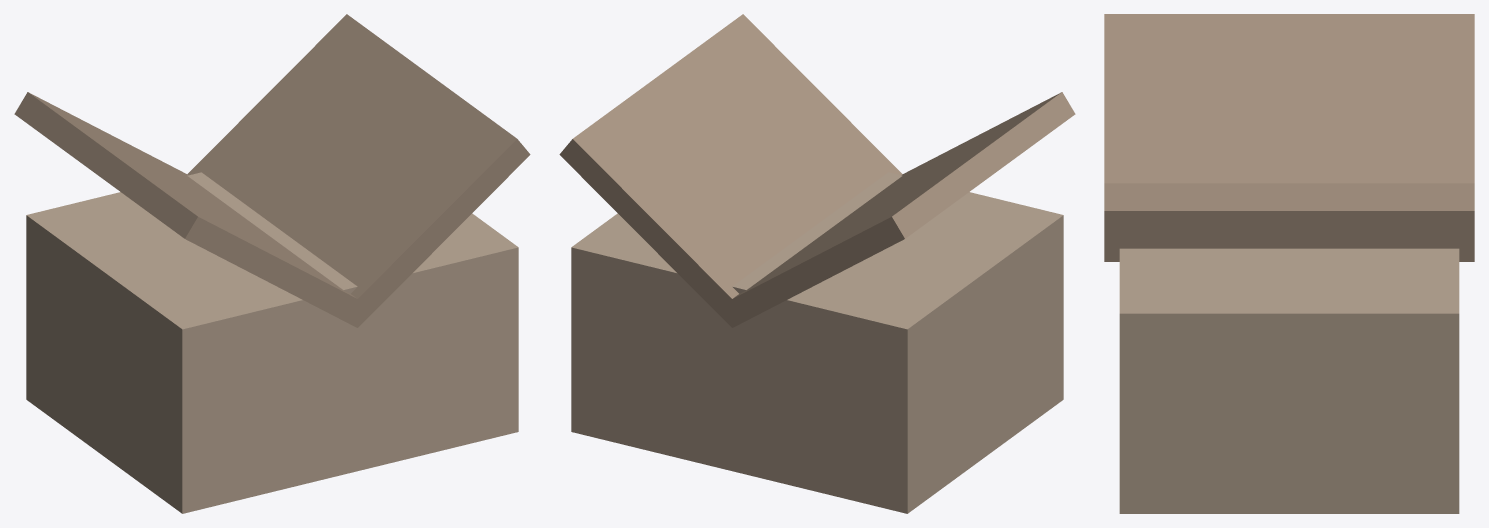
3 views of the same model, side by side, from view 1: azimuth 30°, elevation 25°; view 2: azimuth 150°, elevation 25°; view 3: azimuth 270°, elevation 25° (orthographic). The views are drawn at different scales.
Visible parts, largest first — view 1: stick-walls, roof-right, roof-left; view 2: stick-walls, roof-right, roof-left; view 3: stick-walls, roof-left, roof-right.
Boxes of the visible parts, x1,y1,x2,y2 form: stick-walls: [26, 172, 518, 513]; roof-right: [187, 14, 530, 327]; roof-left: [14, 92, 370, 327]; stick-walls: [571, 172, 1063, 513]; roof-right: [559, 14, 902, 327]; roof-left: [720, 92, 1075, 327]; stick-walls: [1119, 248, 1459, 513]; roof-left: [1104, 14, 1474, 183]; roof-right: [1104, 183, 1474, 261].
Size of the model in its own units: 8.43 by 7 by 7.2.
